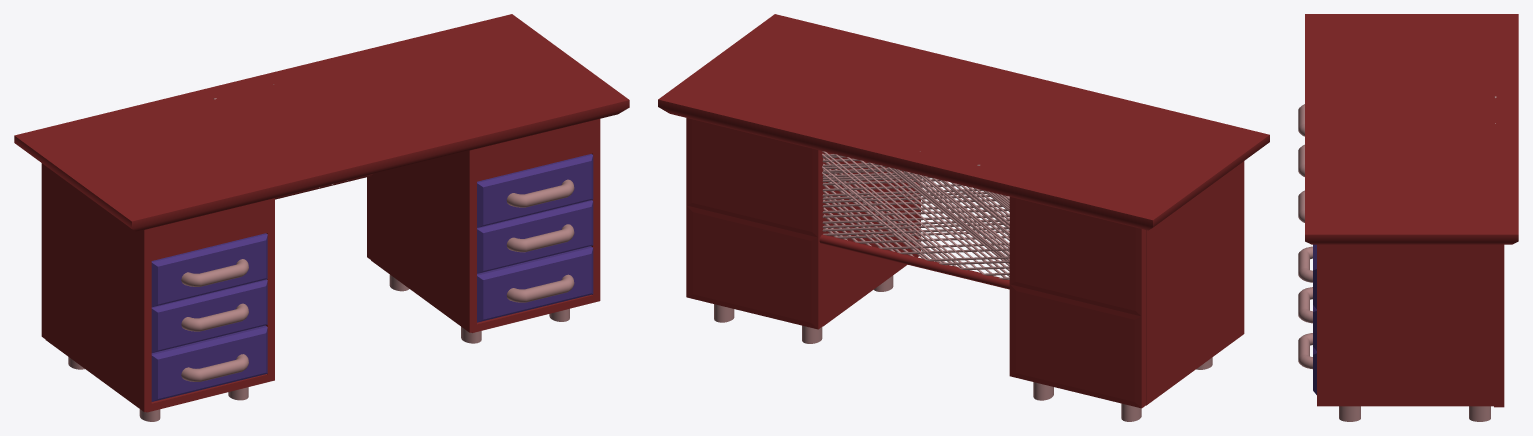
The model's file is tDesk.obj.
3 views of the same model, side by side, from view 1: azimuth 30°, elevation 25°; view 2: azimuth 150°, elevation 25°; view 3: azimuth 270°, elevation 25° (orthographic). The views are drawn at different scales.
Visible parts, largest first — view 1: polyProjectionCurve32_1; view 2: polyProjectionCurve32_1; view 3: polyProjectionCurve32_1.
Boxes of the visible parts, x1,y1,x2,y2 form: polyProjectionCurve32_1: [14, 14, 629, 421]; polyProjectionCurve32_1: [658, 14, 1269, 421]; polyProjectionCurve32_1: [1298, 14, 1518, 421].
Bounding box in the file's own units: 11.99 × 5.18 × 5.06.
